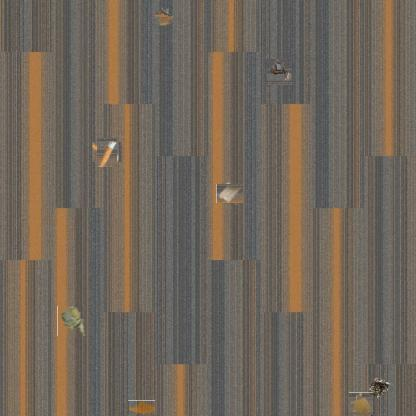dirty: (57, 306, 86, 336), (266, 59, 292, 85), (95, 140, 119, 164), (367, 378, 391, 402), (218, 182, 242, 205), (151, 6, 175, 28)
liquid: (350, 392, 373, 416), (127, 400, 155, 415)
